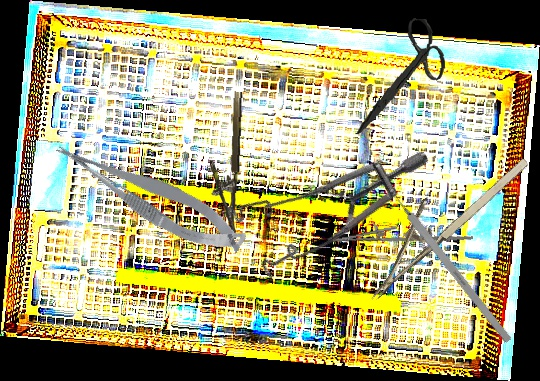Hook Surgical: (382, 181, 513, 344)
Iris Scissors: (355, 14, 449, 141)
Micro Scissor: (50, 117, 251, 273)
Needle Holder: (344, 132, 533, 303), (331, 208, 474, 260), (206, 90, 244, 239)
Speculum: (212, 80, 431, 314)
